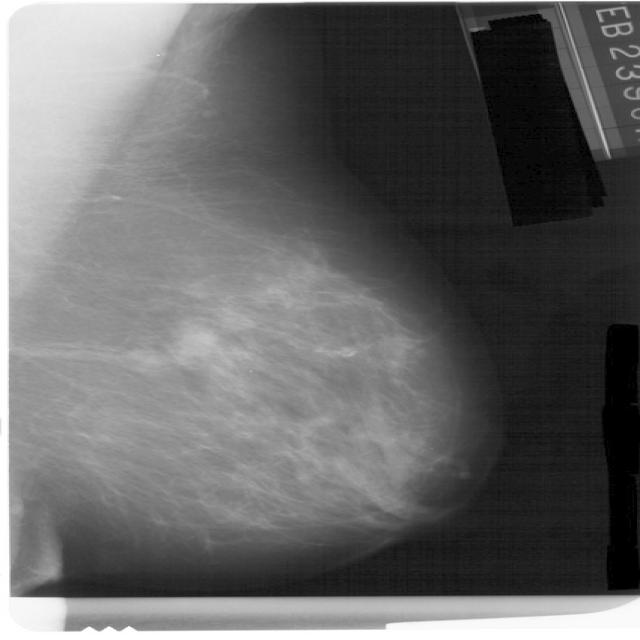tumour: (175, 324, 217, 359)
